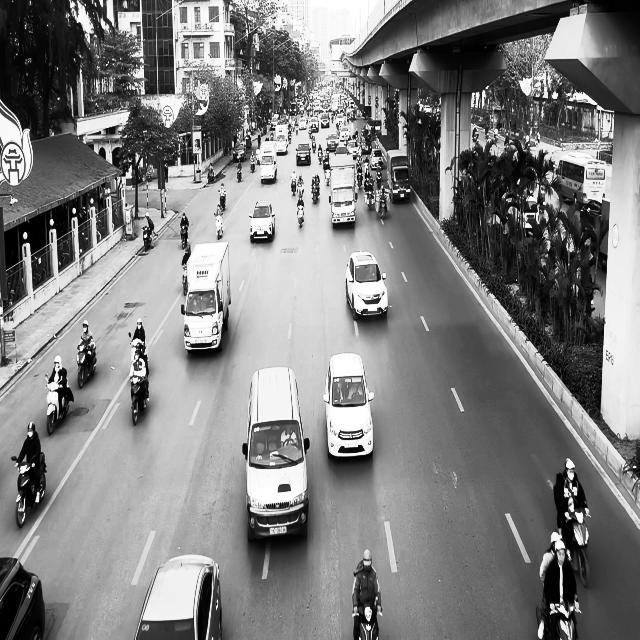bus: (556, 150, 606, 206)
car: (242, 366, 310, 542), (134, 554, 222, 639), (323, 352, 374, 458), (0, 555, 45, 639), (345, 250, 388, 320), (249, 200, 275, 242), (296, 141, 311, 165)
motorbike: (10, 452, 46, 528), (564, 508, 590, 588), (536, 598, 580, 639), (45, 372, 73, 434), (352, 599, 382, 640), (130, 373, 149, 425), (76, 341, 97, 388), (142, 226, 153, 251), (214, 212, 223, 240), (296, 200, 304, 228), (182, 262, 188, 296), (180, 224, 188, 249), (219, 189, 226, 209), (236, 161, 242, 182), (290, 178, 296, 195)
truck: (180, 240, 230, 352)
